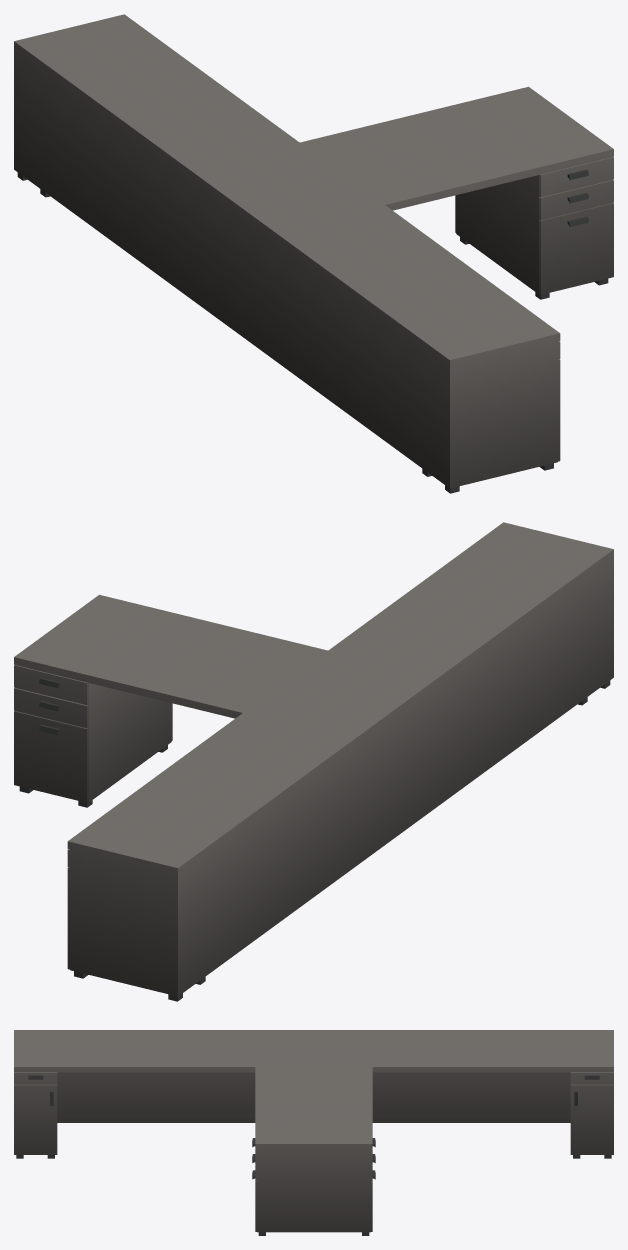
File: Desk_Joined_B.fbx
The picture shows the model from 3 angles, top to bottom: view 1: azimuth 30°, elevation 25°; view 2: azimuth 150°, elevation 25°; view 3: azimuth 270°, elevation 25°; orthographic projection. The views are drawn at different scales.
Parts seen in each view (by area): view 1: Desk_Joined_B; view 2: Desk_Joined_B; view 3: Desk_Joined_B.
Part boxes in pixels (<box>): Desk_Joined_B: <box>14,14,613,493</box>; Desk_Joined_B: <box>14,522,613,1001</box>; Desk_Joined_B: <box>14,1030,613,1235</box>.
Size of the model in its own units: 184 by 70 by 409.
